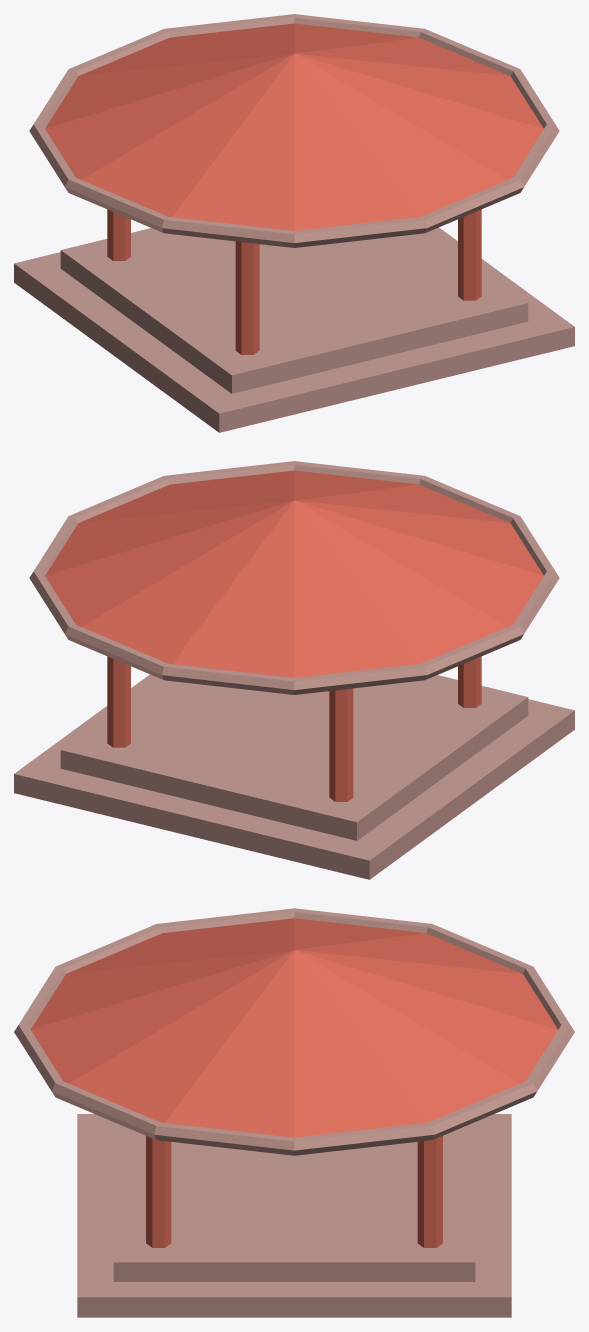
Rendered from shelter.glb.
3 views of the same model, one above another, from view 1: azimuth 30°, elevation 25°; view 2: azimuth 150°, elevation 25°; view 3: azimuth 270°, elevation 25° (orthographic). The views are drawn at different scales.
Visible parts, largest first — view 1: Cone, Cube, Cube.001, Torus, Cylinder.002, Cylinder.003, Cylinder; view 2: Cone, Cube, Cube.001, Torus, Cylinder, Cylinder.001, Cylinder.002; view 3: Cone, Cube, Cube.001, Torus, Cylinder.001, Cylinder.003.
Boxes of the visible parts, x1,y1,x2,y2 form: Cone: (45,23,543,230); Cube: (60,228,528,393); Cube.001: (14,227,574,432); Torus: (29,14,559,247); Cylinder.002: (235,241,259,354); Cylinder.003: (458,209,481,300); Cylinder: (107,209,130,260); Cone: (45,470,543,677); Cube: (60,675,528,840); Cube.001: (14,674,574,879); Torus: (29,461,559,694); Cylinder: (329,688,353,801); Cylinder.001: (107,656,130,747); Cylinder.002: (458,656,481,707); Cone: (30,918,558,1137); Cube: (113,1122,475,1281); Cube.001: (77,1114,511,1317); Torus: (14,908,574,1155); Cylinder.001: (417,1136,442,1247); Cylinder.003: (146,1136,171,1247).
Size of the model in its own units: 6.2 by 3.36 by 6.2.
